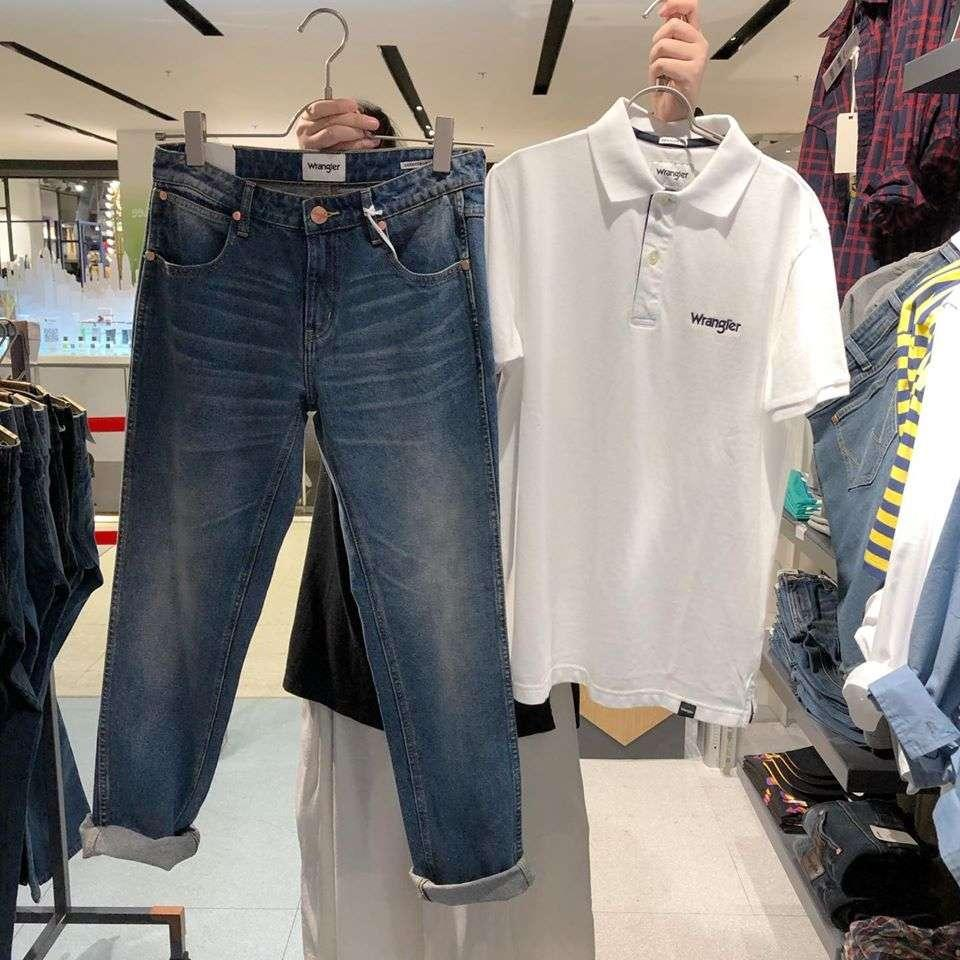Tshirt: (492, 104, 836, 715)
pants: (88, 148, 521, 896)
